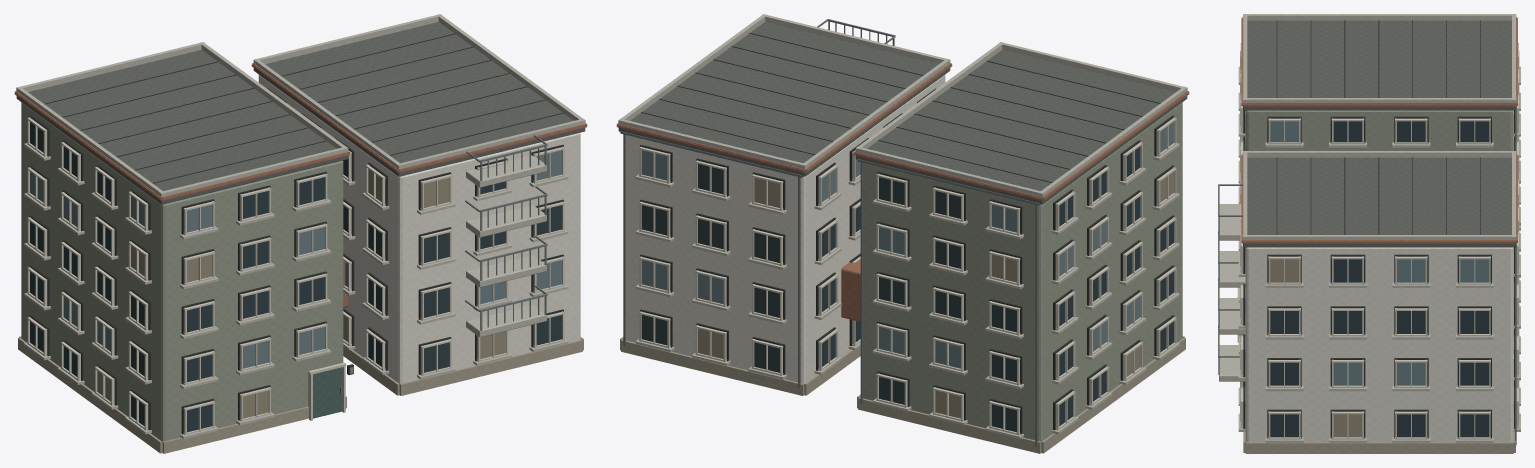
File: RES_MID_3x2_006.glb
The picture shows the model from 3 angles, left to right: view 1: azimuth 30°, elevation 25°; view 2: azimuth 150°, elevation 25°; view 3: azimuth 270°, elevation 25°; orthographic projection. The views are drawn at different scales.
Visible parts, largest first — view 1: RES_MID_3x2_006_Visual; view 2: RES_MID_3x2_006_Visual; view 3: RES_MID_3x2_006_Visual.
Part boxes in pixels (x1,y1,x2,y2): RES_MID_3x2_006_Visual: (14, 14, 587, 453); RES_MID_3x2_006_Visual: (616, 14, 1189, 453); RES_MID_3x2_006_Visual: (1218, 14, 1520, 453).
Size of what is drawn, in the model's own units: 5.26 by 3.03 by 3.39.
Materials: 13 (7 with a texture image).
